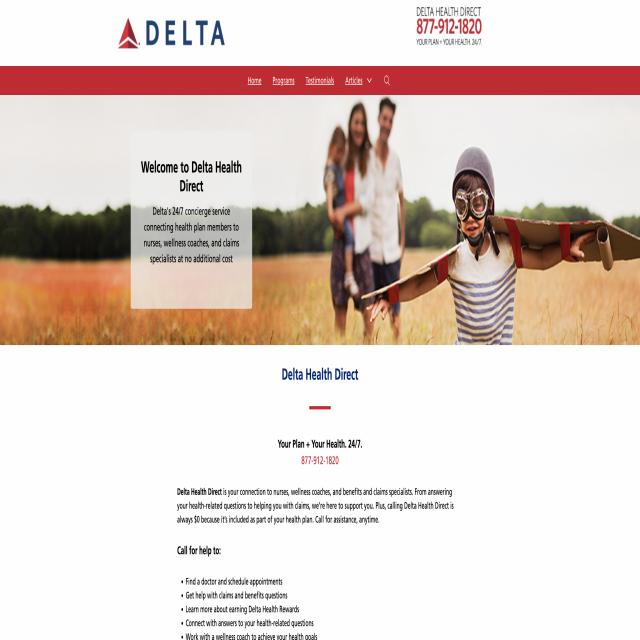Logo: (112, 0, 232, 62)
Navigation: (248, 74, 394, 88)
